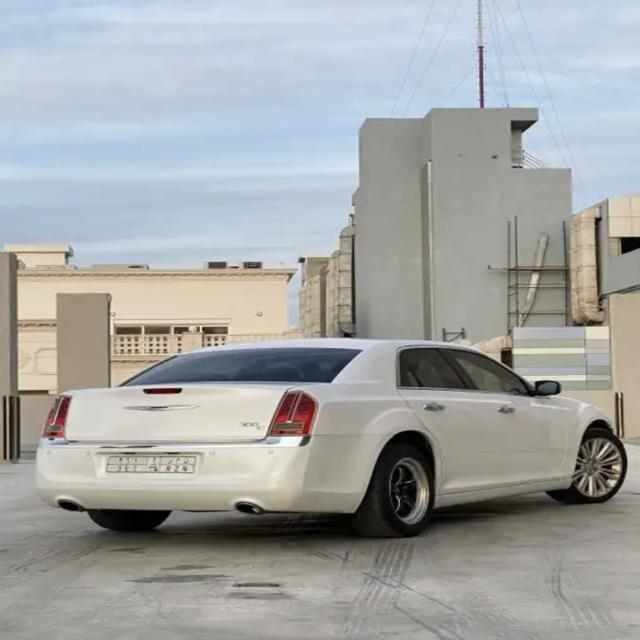license_plate: (106, 456, 198, 474)
